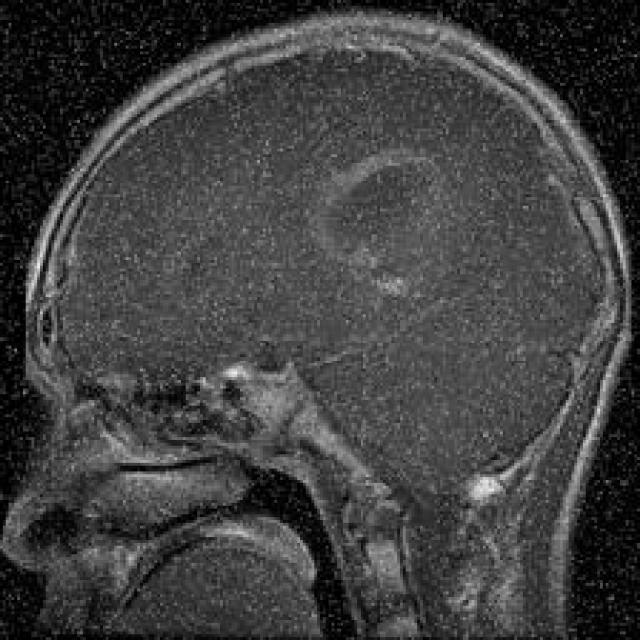glioma_tumor: (299, 134, 467, 312)
